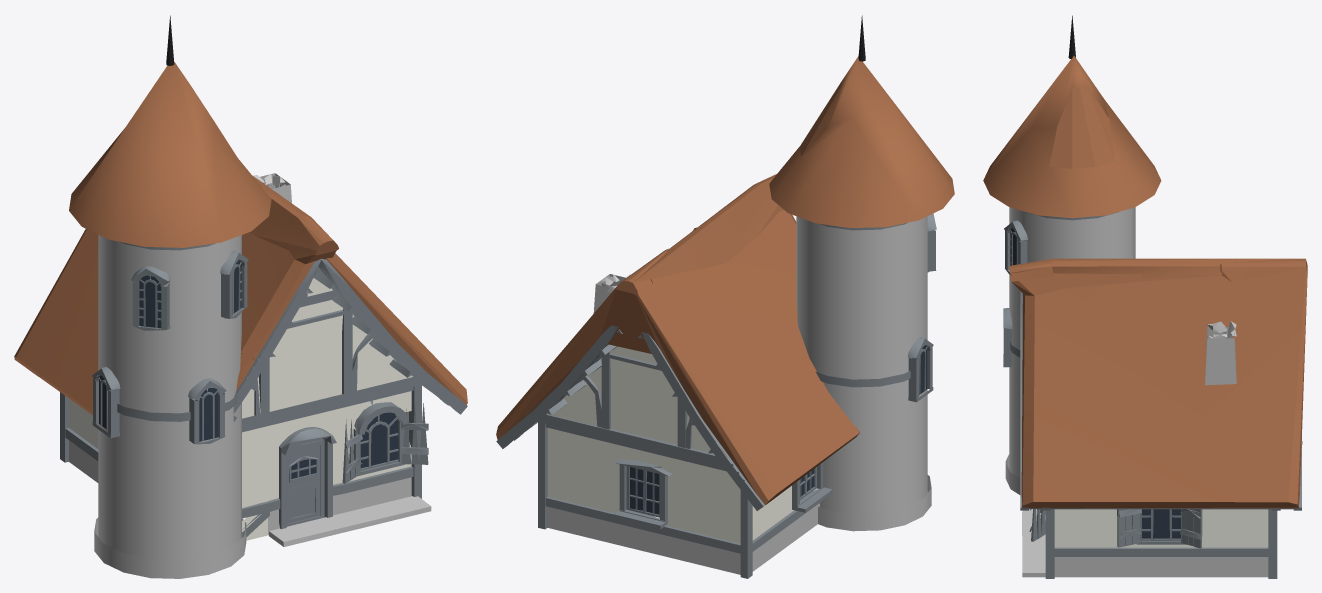
Rendered from generated.cottage_tower.gltf.
The picture shows the model from 3 angles, left to right: view 1: azimuth 30°, elevation 25°; view 2: azimuth 150°, elevation 25°; view 3: azimuth 270°, elevation 25°; orthographic projection. The views are drawn at different scales.
Parts seen in each view (by area): view 1: lod; view 2: lod; view 3: lod.
Boxes of the visible parts, x1,y1,x2,y2 form: lod: [14, 15, 467, 578]; lod: [496, 15, 954, 578]; lod: [983, 15, 1307, 578].
Size of the model in its own units: 9.82 by 13.81 by 8.74.
